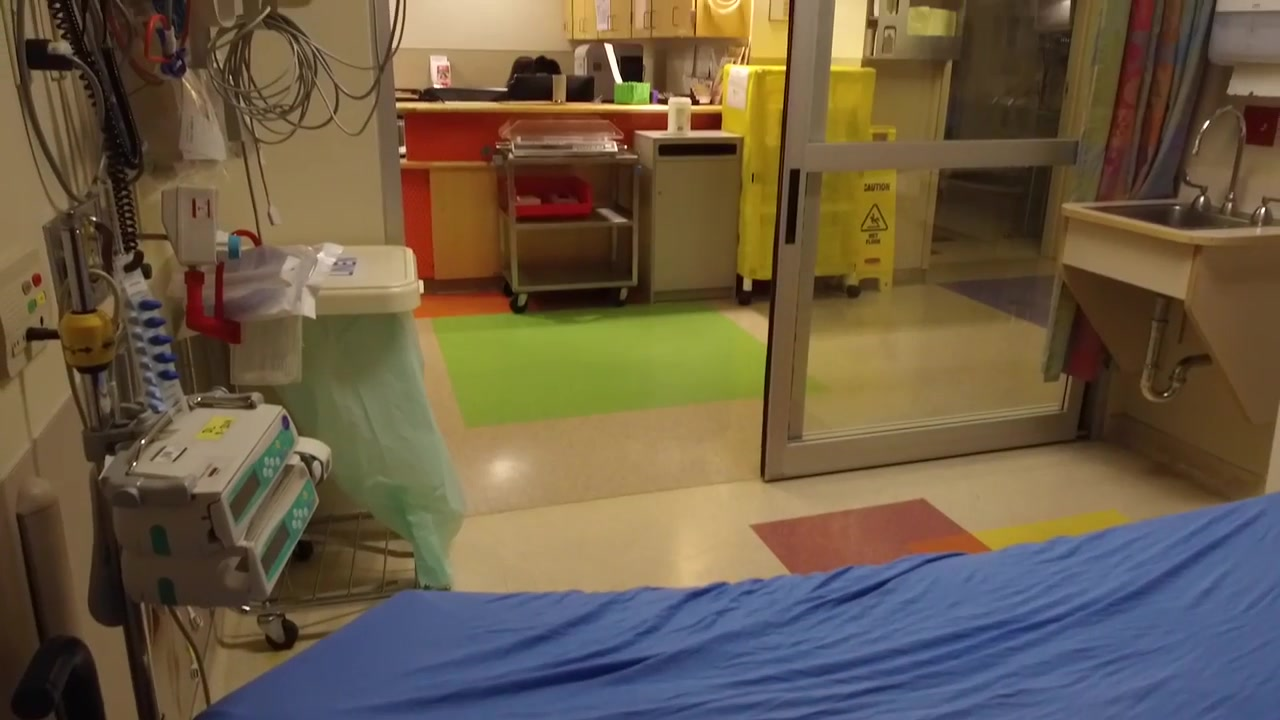computer: (510, 73, 596, 103)
counter: (396, 100, 733, 289)
curtain: (1067, 1, 1214, 204)
dispenser: (1207, 1, 1280, 98)
faucet: (1179, 104, 1280, 226)
handle: (605, 14, 618, 33), (669, 5, 679, 28), (641, 9, 651, 30), (577, 18, 587, 34)
hospital_bed: (181, 487, 1280, 720)
sink: (1083, 194, 1277, 238)
syringe_pump: (109, 406, 298, 547), (126, 478, 321, 608)
utility_cart: (492, 135, 644, 315)
waste_bin: (287, 246, 475, 602)
